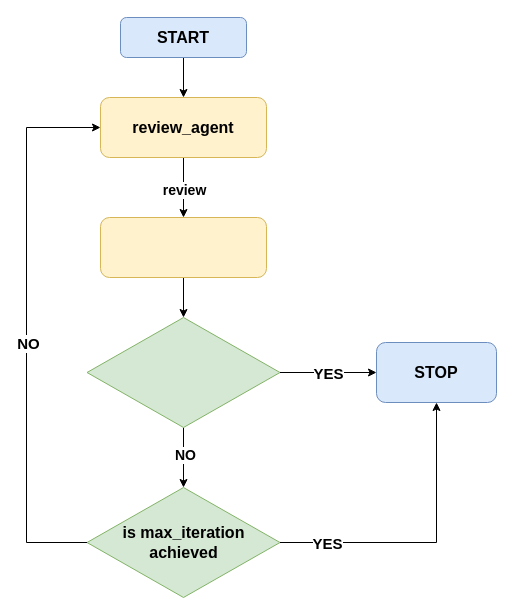
Image size: 514x615. Some labels were removed from this diagram. Each missing label, with the box of its shape:
critic_agent: (100, 216, 266, 278)
Is the review accepted: (86, 316, 280, 428)
